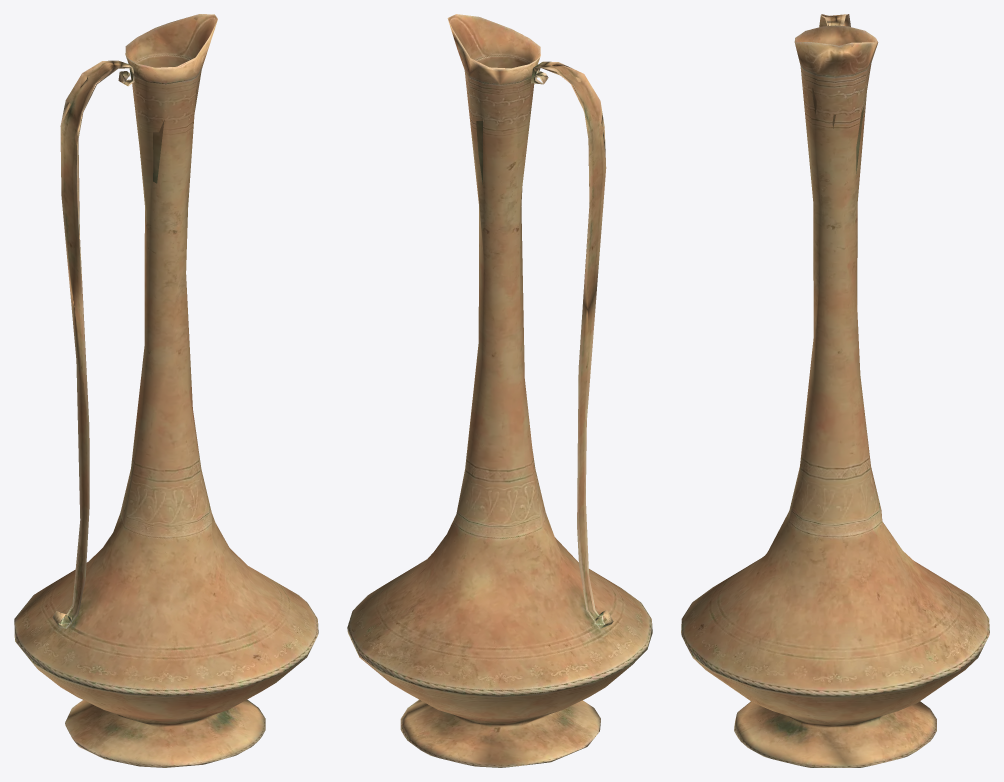
File: brass_vase_02.glb
The picture shows the model from 3 angles, left to right: view 1: azimuth 30°, elevation 25°; view 2: azimuth 150°, elevation 25°; view 3: azimuth 270°, elevation 25°; orthographic projection.
Parts seen in each view (by area): view 1: brass_vase_02; view 2: brass_vase_02; view 3: brass_vase_02.
Boxes of the visible parts, x1,y1,x2,y2 form: brass_vase_02: [14, 14, 318, 767]; brass_vase_02: [347, 14, 652, 767]; brass_vase_02: [681, 14, 989, 767].
Bounding box in the file's own units: 0.2096 × 0.528 × 0.2093.
Materials: 1 (1 with a texture image).
